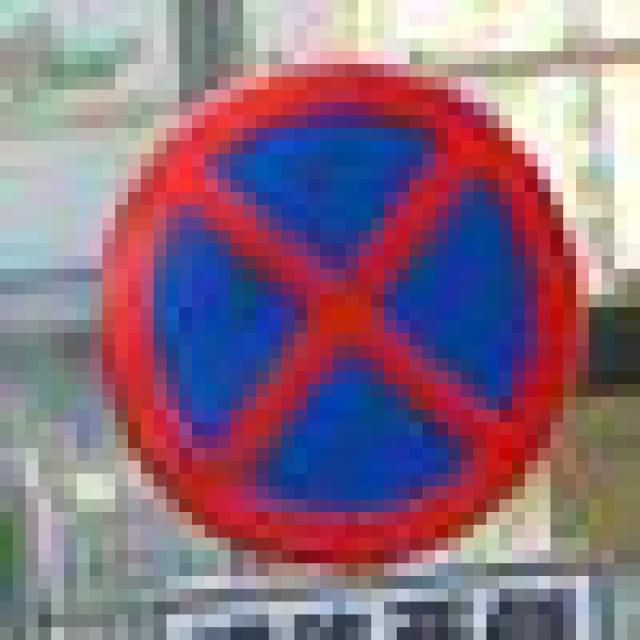NO_STOPPING_OR_STANDING: (102, 52, 576, 550)
